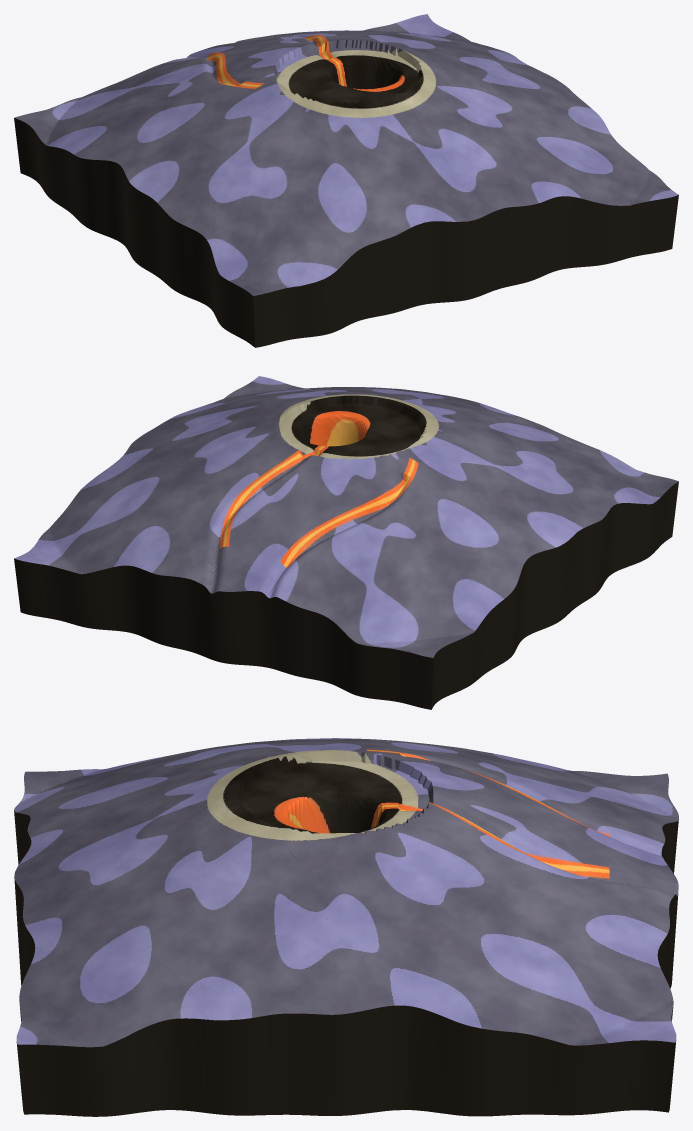
Rendered from big-island-kilauea.glb.
3 renders of one model, top to bottom at view 1: azimuth 30°, elevation 25°; view 2: azimuth 150°, elevation 25°; view 3: azimuth 270°, elevation 25°, orthographic. The views are drawn at different scales.
Bounding box in the file's own units: 0.8517 × 0.27 × 0.8611.
Materials: 1 (1 with a texture image).
